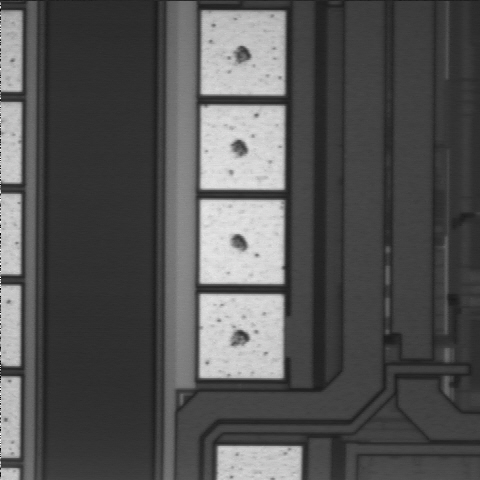pad: (200, 200, 284, 284), (201, 106, 284, 190), (200, 294, 283, 378), (201, 12, 284, 95)
